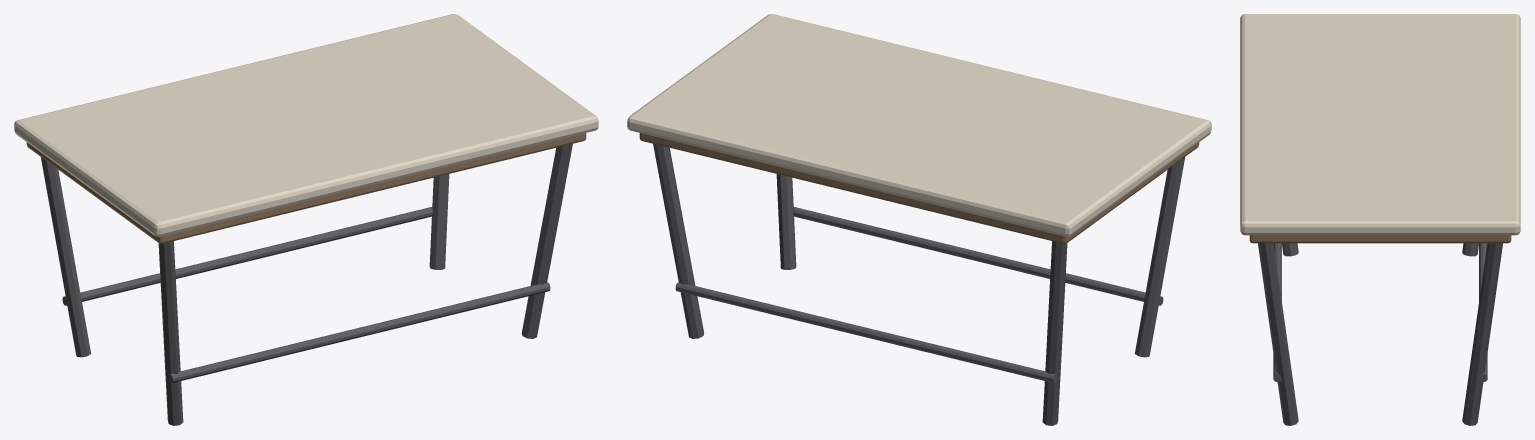
The picture shows the model from 3 angles, left to right: view 1: azimuth 30°, elevation 25°; view 2: azimuth 150°, elevation 25°; view 3: azimuth 270°, elevation 25°; orthographic projection. The views are drawn at different scales.
Visible parts, largest first — view 1: breakTable; view 2: breakTable; view 3: breakTable.
Part boxes in pixels (x1=…): breakTable: x1=14, y1=14, x2=598, y2=425; breakTable: x1=627, y1=14, x2=1211, y2=425; breakTable: x1=1240, y1=14, x2=1520, y2=425.
Bounding box in the file's own units: 1.6 × 0.7841 × 0.9.
